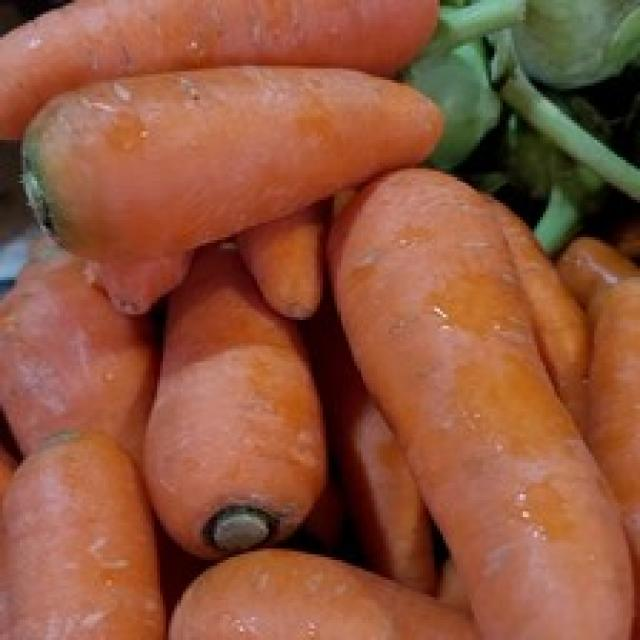Fresh_Carrot: (162, 296, 325, 554), (48, 96, 425, 190)
